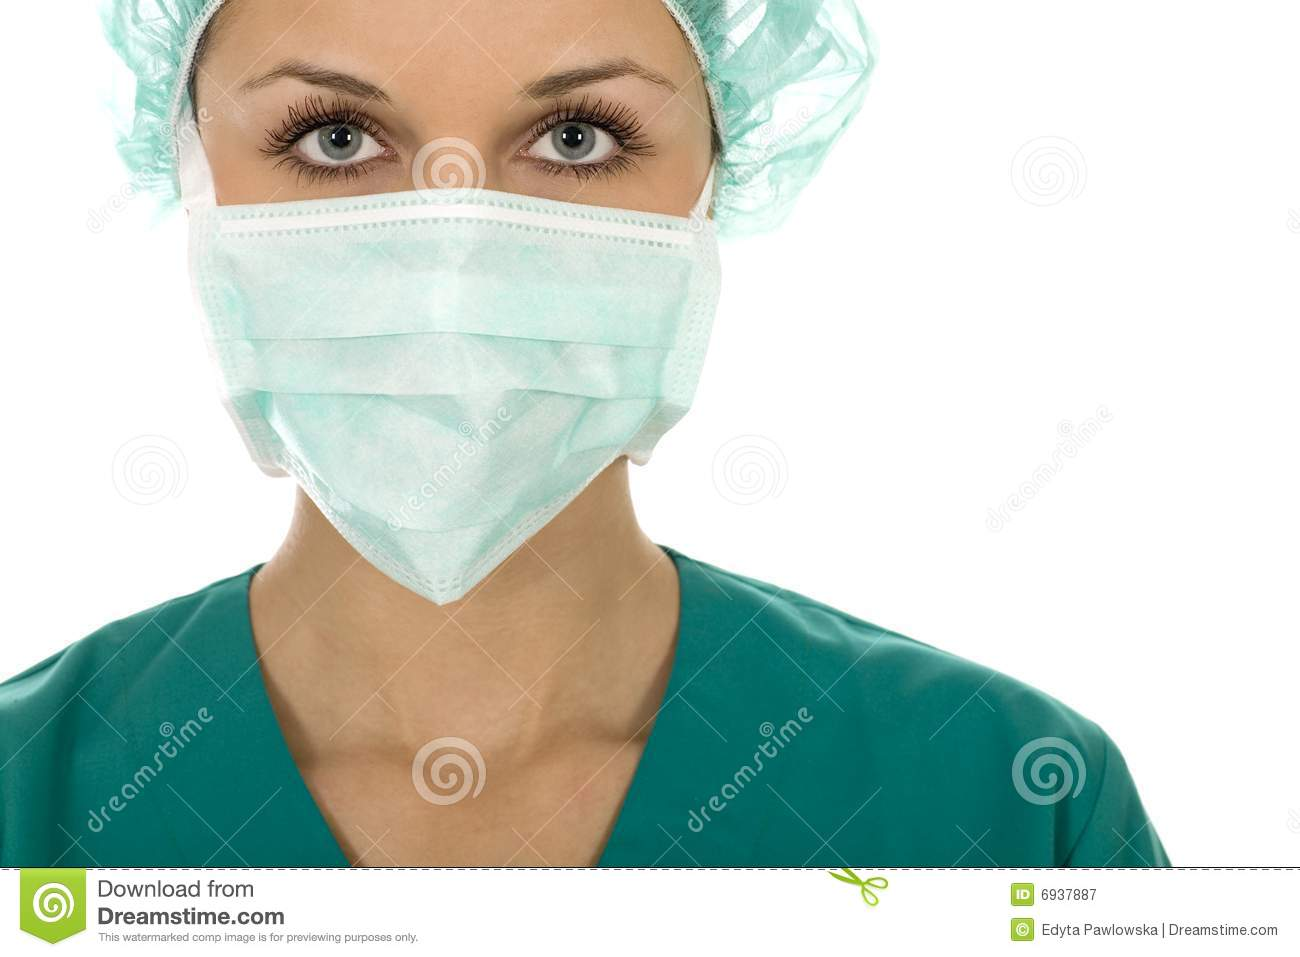mask: (167, 188, 726, 583)
